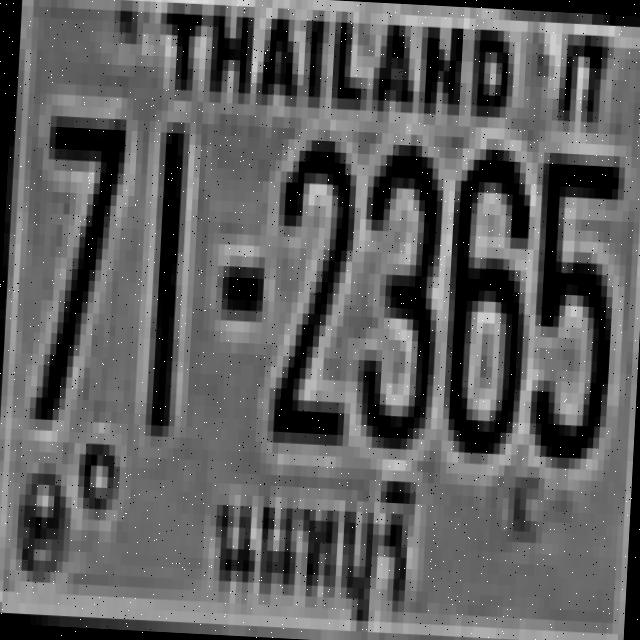1: (146, 122, 184, 426)
2: (272, 138, 358, 445)
3: (354, 140, 445, 447)
5: (528, 147, 620, 466)
6: (442, 138, 534, 456)
7: (35, 108, 126, 426)
Nonthaburi: (205, 467, 428, 617)
